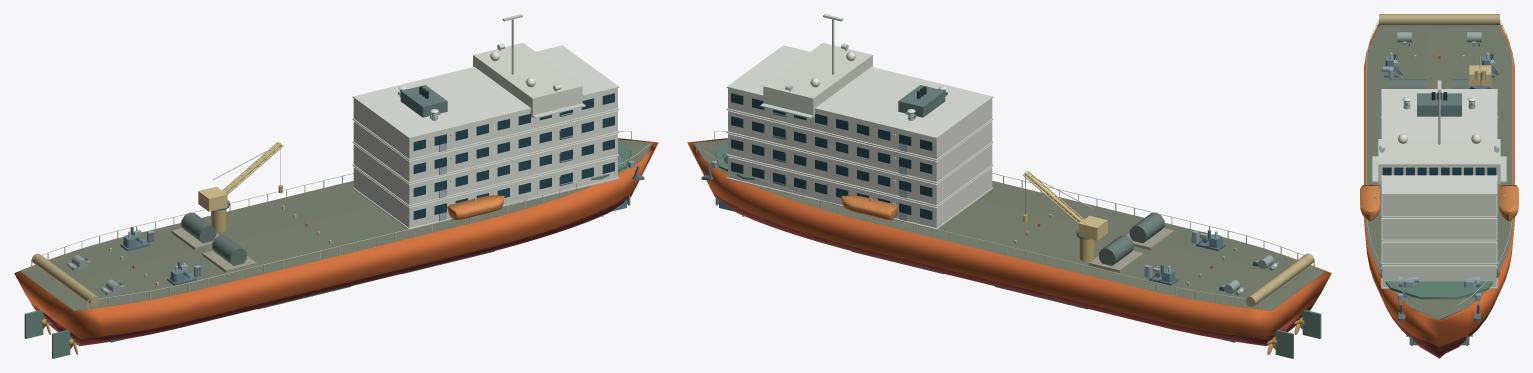
The model's file is abeille-bourbon.lod0.glb.
3 renders of one model, left to right at view 1: azimuth 30°, elevation 25°; view 2: azimuth 150°, elevation 25°; view 3: azimuth 270°, elevation 25°, orthographic. The views are drawn at different scales.
Parts seen in each view (by area): view 1: abeille-bourbon.structure.decks.main-strength-deck.1, abeille-bourbon.structure.hull.outer-hull-shell.1, abeille-bourbon.accommodation.superstructure.superstructure-, abeille-bourbon.accommodation.superstructure.deck-3-enclosur, abeille-bourbon.accommodation.superstructure.deck-2-enclosur, abeille-bourbon.navigation.bridge.wheelhouse.1, abeille-bourbon.accommodation.superstructure.deck-1-enclosur, abeille-bourbon.accommodation.superstructure.deck-4-enclosur, abeille-bourbon.structure.hull.antifouling-underwater-shell., abeille-bourbon.propulsion.exhaust.exhaust-casing.1, abeille-bourbon.safety.survival-craft.lifeboat-starboard-1.1, abeille-bourbon.cargo.working-deck.stern-roller.1 (+8 smaller); view 2: abeille-bourbon.structure.decks.main-strength-deck.1, abeille-bourbon.structure.hull.outer-hull-shell.1, abeille-bourbon.accommodation.superstructure.superstructure-, abeille-bourbon.accommodation.superstructure.deck-3-enclosur, abeille-bourbon.accommodation.superstructure.deck-2-enclosur, abeille-bourbon.navigation.bridge.wheelhouse.1, abeille-bourbon.accommodation.superstructure.deck-1-enclosur, abeille-bourbon.accommodation.superstructure.deck-4-enclosur, abeille-bourbon.structure.hull.antifouling-underwater-shell., abeille-bourbon.propulsion.exhaust.exhaust-casing.1, abeille-bourbon.safety.survival-craft.lifeboat-port-1.1, abeille-bourbon.cargo.working-deck.stern-roller.1 (+8 smaller); view 3: abeille-bourbon.structure.decks.main-strength-deck.1, abeille-bourbon.accommodation.superstructure.superstructure-, abeille-bourbon.structure.hull.outer-hull-shell.1, abeille-bourbon.navigation.bridge.wheelhouse.1, abeille-bourbon.accommodation.superstructure.deck-2-enclosur, abeille-bourbon.accommodation.superstructure.deck-3-enclosur, abeille-bourbon.accommodation.superstructure.deck-4-enclosur, abeille-bourbon.accommodation.superstructure.deck-1-enclosur, abeille-bourbon.cargo.aviation.helicopter-landing-deck.1, abeille-bourbon.cargo.working-deck.stern-roller.1, abeille-bourbon.propulsion.exhaust.exhaust-casing.1, abeille-bourbon.structure.hull.antifouling-underwater-shell. (+13 smaller).
Boxes of the visible parts, bbox=[...] form: abeille-bourbon.structure.decks.main-strength-deck.1: bbox=[21, 139, 652, 310]; abeille-bourbon.structure.hull.outer-hull-shell.1: bbox=[14, 138, 658, 339]; abeille-bourbon.accommodation.superstructure.superstructure-: bbox=[352, 45, 619, 138]; abeille-bourbon.accommodation.superstructure.deck-3-enclosur: bbox=[353, 110, 617, 181]; abeille-bourbon.accommodation.superstructure.deck-2-enclosur: bbox=[353, 133, 617, 204]; abeille-bourbon.navigation.bridge.wheelhouse.1: bbox=[473, 43, 582, 117]; abeille-bourbon.accommodation.superstructure.deck-1-enclosur: bbox=[353, 156, 617, 227]; abeille-bourbon.accommodation.superstructure.deck-4-enclosur: bbox=[353, 88, 617, 158]; abeille-bourbon.structure.hull.antifouling-underwater-shell.: bbox=[31, 183, 637, 345]; abeille-bourbon.propulsion.exhaust.exhaust-casing.1: bbox=[400, 85, 447, 117]; abeille-bourbon.safety.survival-craft.lifeboat-starboard-1.1: bbox=[447, 195, 504, 220]; abeille-bourbon.cargo.working-deck.stern-roller.1: bbox=[32, 253, 99, 306]; abeille-bourbon.structure.decks.main-strength-deck.1: bbox=[693, 139, 1324, 310]; abeille-bourbon.structure.hull.outer-hull-shell.1: bbox=[687, 138, 1331, 339]; abeille-bourbon.accommodation.superstructure.superstructure-: bbox=[726, 45, 993, 138]; abeille-bourbon.accommodation.superstructure.deck-3-enclosur: bbox=[728, 110, 992, 181]; abeille-bourbon.accommodation.superstructure.deck-2-enclosur: bbox=[728, 133, 992, 204]; abeille-bourbon.navigation.bridge.wheelhouse.1: bbox=[763, 43, 872, 117]; abeille-bourbon.accommodation.superstructure.deck-1-enclosur: bbox=[728, 156, 992, 227]; abeille-bourbon.accommodation.superstructure.deck-4-enclosur: bbox=[728, 88, 992, 158]; abeille-bourbon.structure.hull.antifouling-underwater-shell.: bbox=[708, 183, 1314, 345]; abeille-bourbon.propulsion.exhaust.exhaust-casing.1: bbox=[898, 85, 945, 117]; abeille-bourbon.safety.survival-craft.lifeboat-port-1.1: bbox=[841, 195, 898, 220]; abeille-bourbon.cargo.working-deck.stern-roller.1: bbox=[1246, 253, 1313, 306]; abeille-bourbon.structure.decks.main-strength-deck.1: bbox=[1365, 25, 1513, 320]; abeille-bourbon.accommodation.superstructure.superstructure-: bbox=[1381, 89, 1497, 195]; abeille-bourbon.structure.hull.outer-hull-shell.1: bbox=[1364, 23, 1514, 346]; abeille-bourbon.navigation.bridge.wheelhouse.1: bbox=[1378, 139, 1500, 183]; abeille-bourbon.accommodation.superstructure.deck-2-enclosur: bbox=[1382, 241, 1496, 263]; abeille-bourbon.accommodation.superstructure.deck-3-enclosur: bbox=[1382, 218, 1496, 239]; abeille-bourbon.accommodation.superstructure.deck-4-enclosur: bbox=[1382, 195, 1496, 215]; abeille-bourbon.accommodation.superstructure.deck-1-enclosur: bbox=[1382, 265, 1496, 286]; abeille-bourbon.cargo.aviation.helicopter-landing-deck.1: bbox=[1379, 268, 1499, 299]; abeille-bourbon.cargo.working-deck.stern-roller.1: bbox=[1379, 14, 1499, 25]; abeille-bourbon.propulsion.exhaust.exhaust-casing.1: bbox=[1417, 93, 1461, 116]; abeille-bourbon.structure.hull.antifouling-underwater-shell.: bbox=[1384, 303, 1494, 358].
Size of the model in its own units: 80.32 by 26.74 by 17.38.
